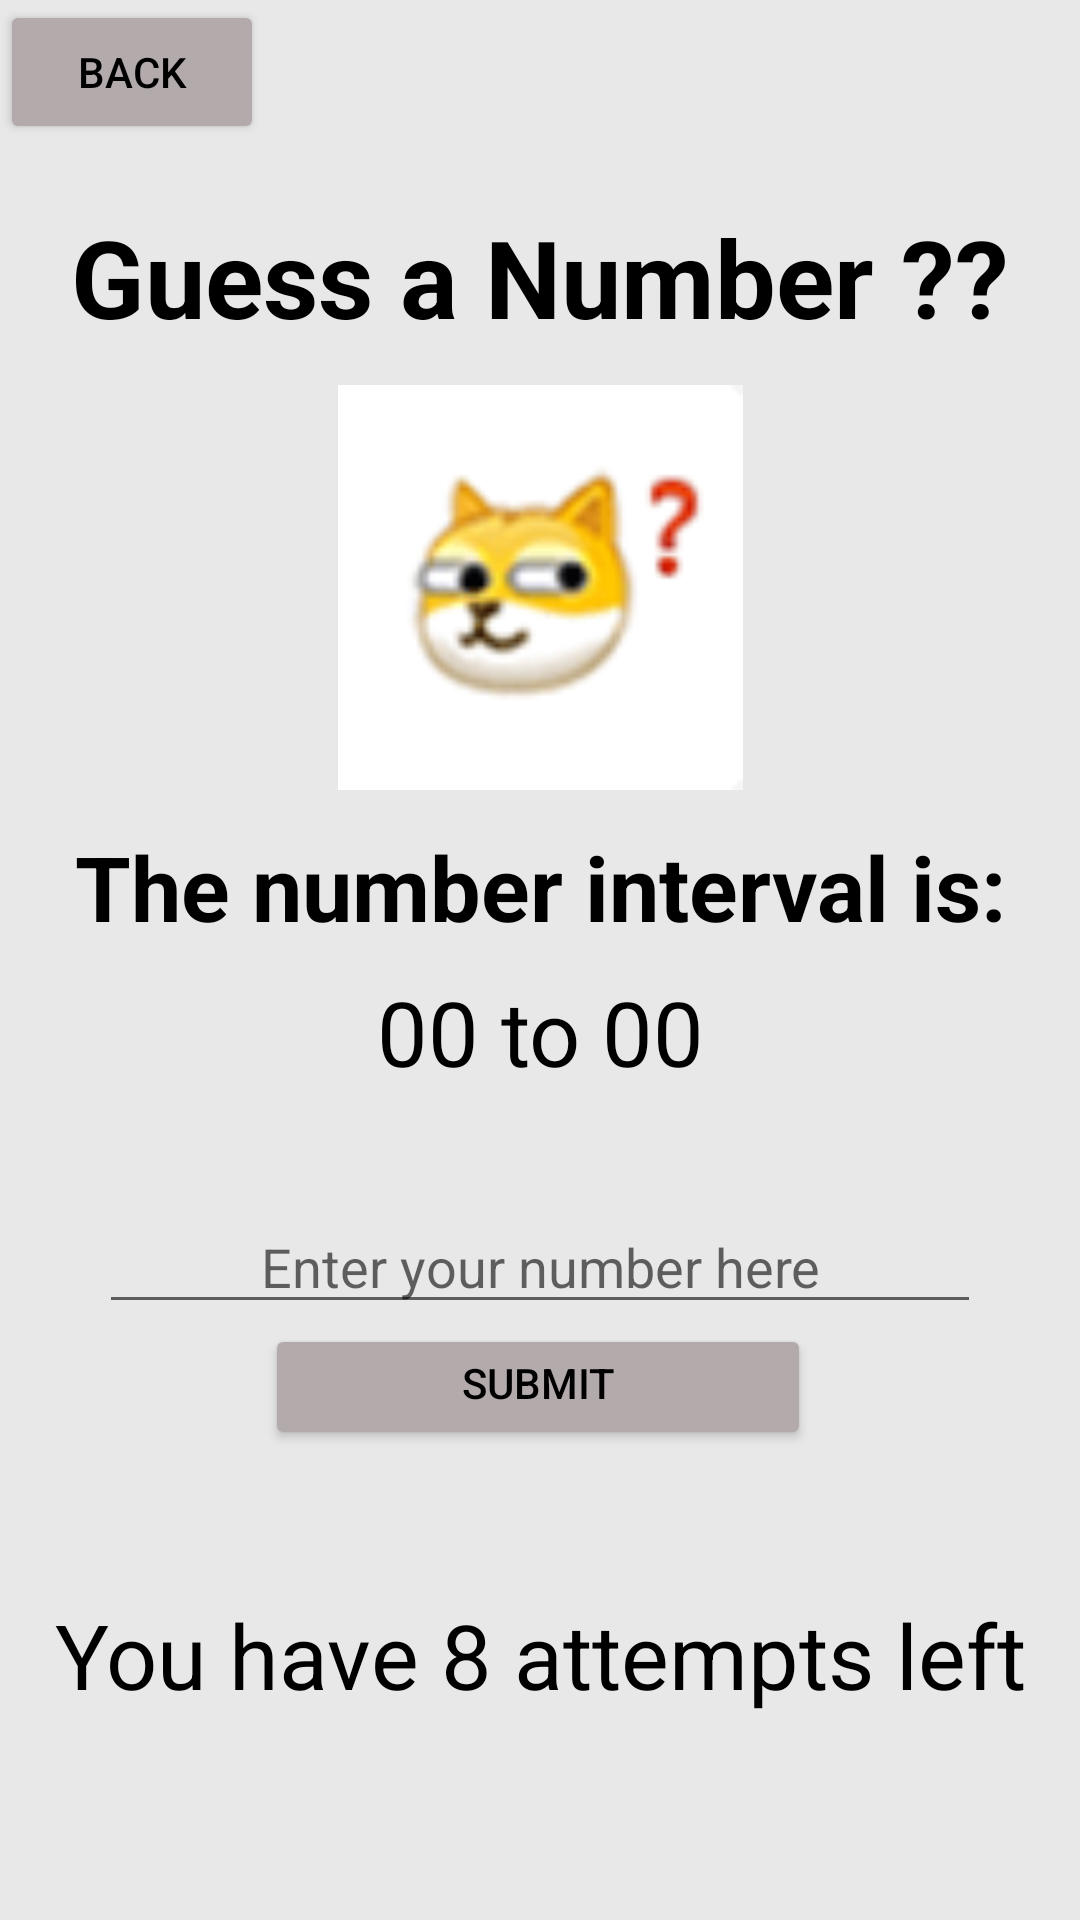

Named icons in this screenshot (1080×1920) and their bounding boxes, (x1, y1, x2, y2):
doge: (415, 474, 699, 694)
